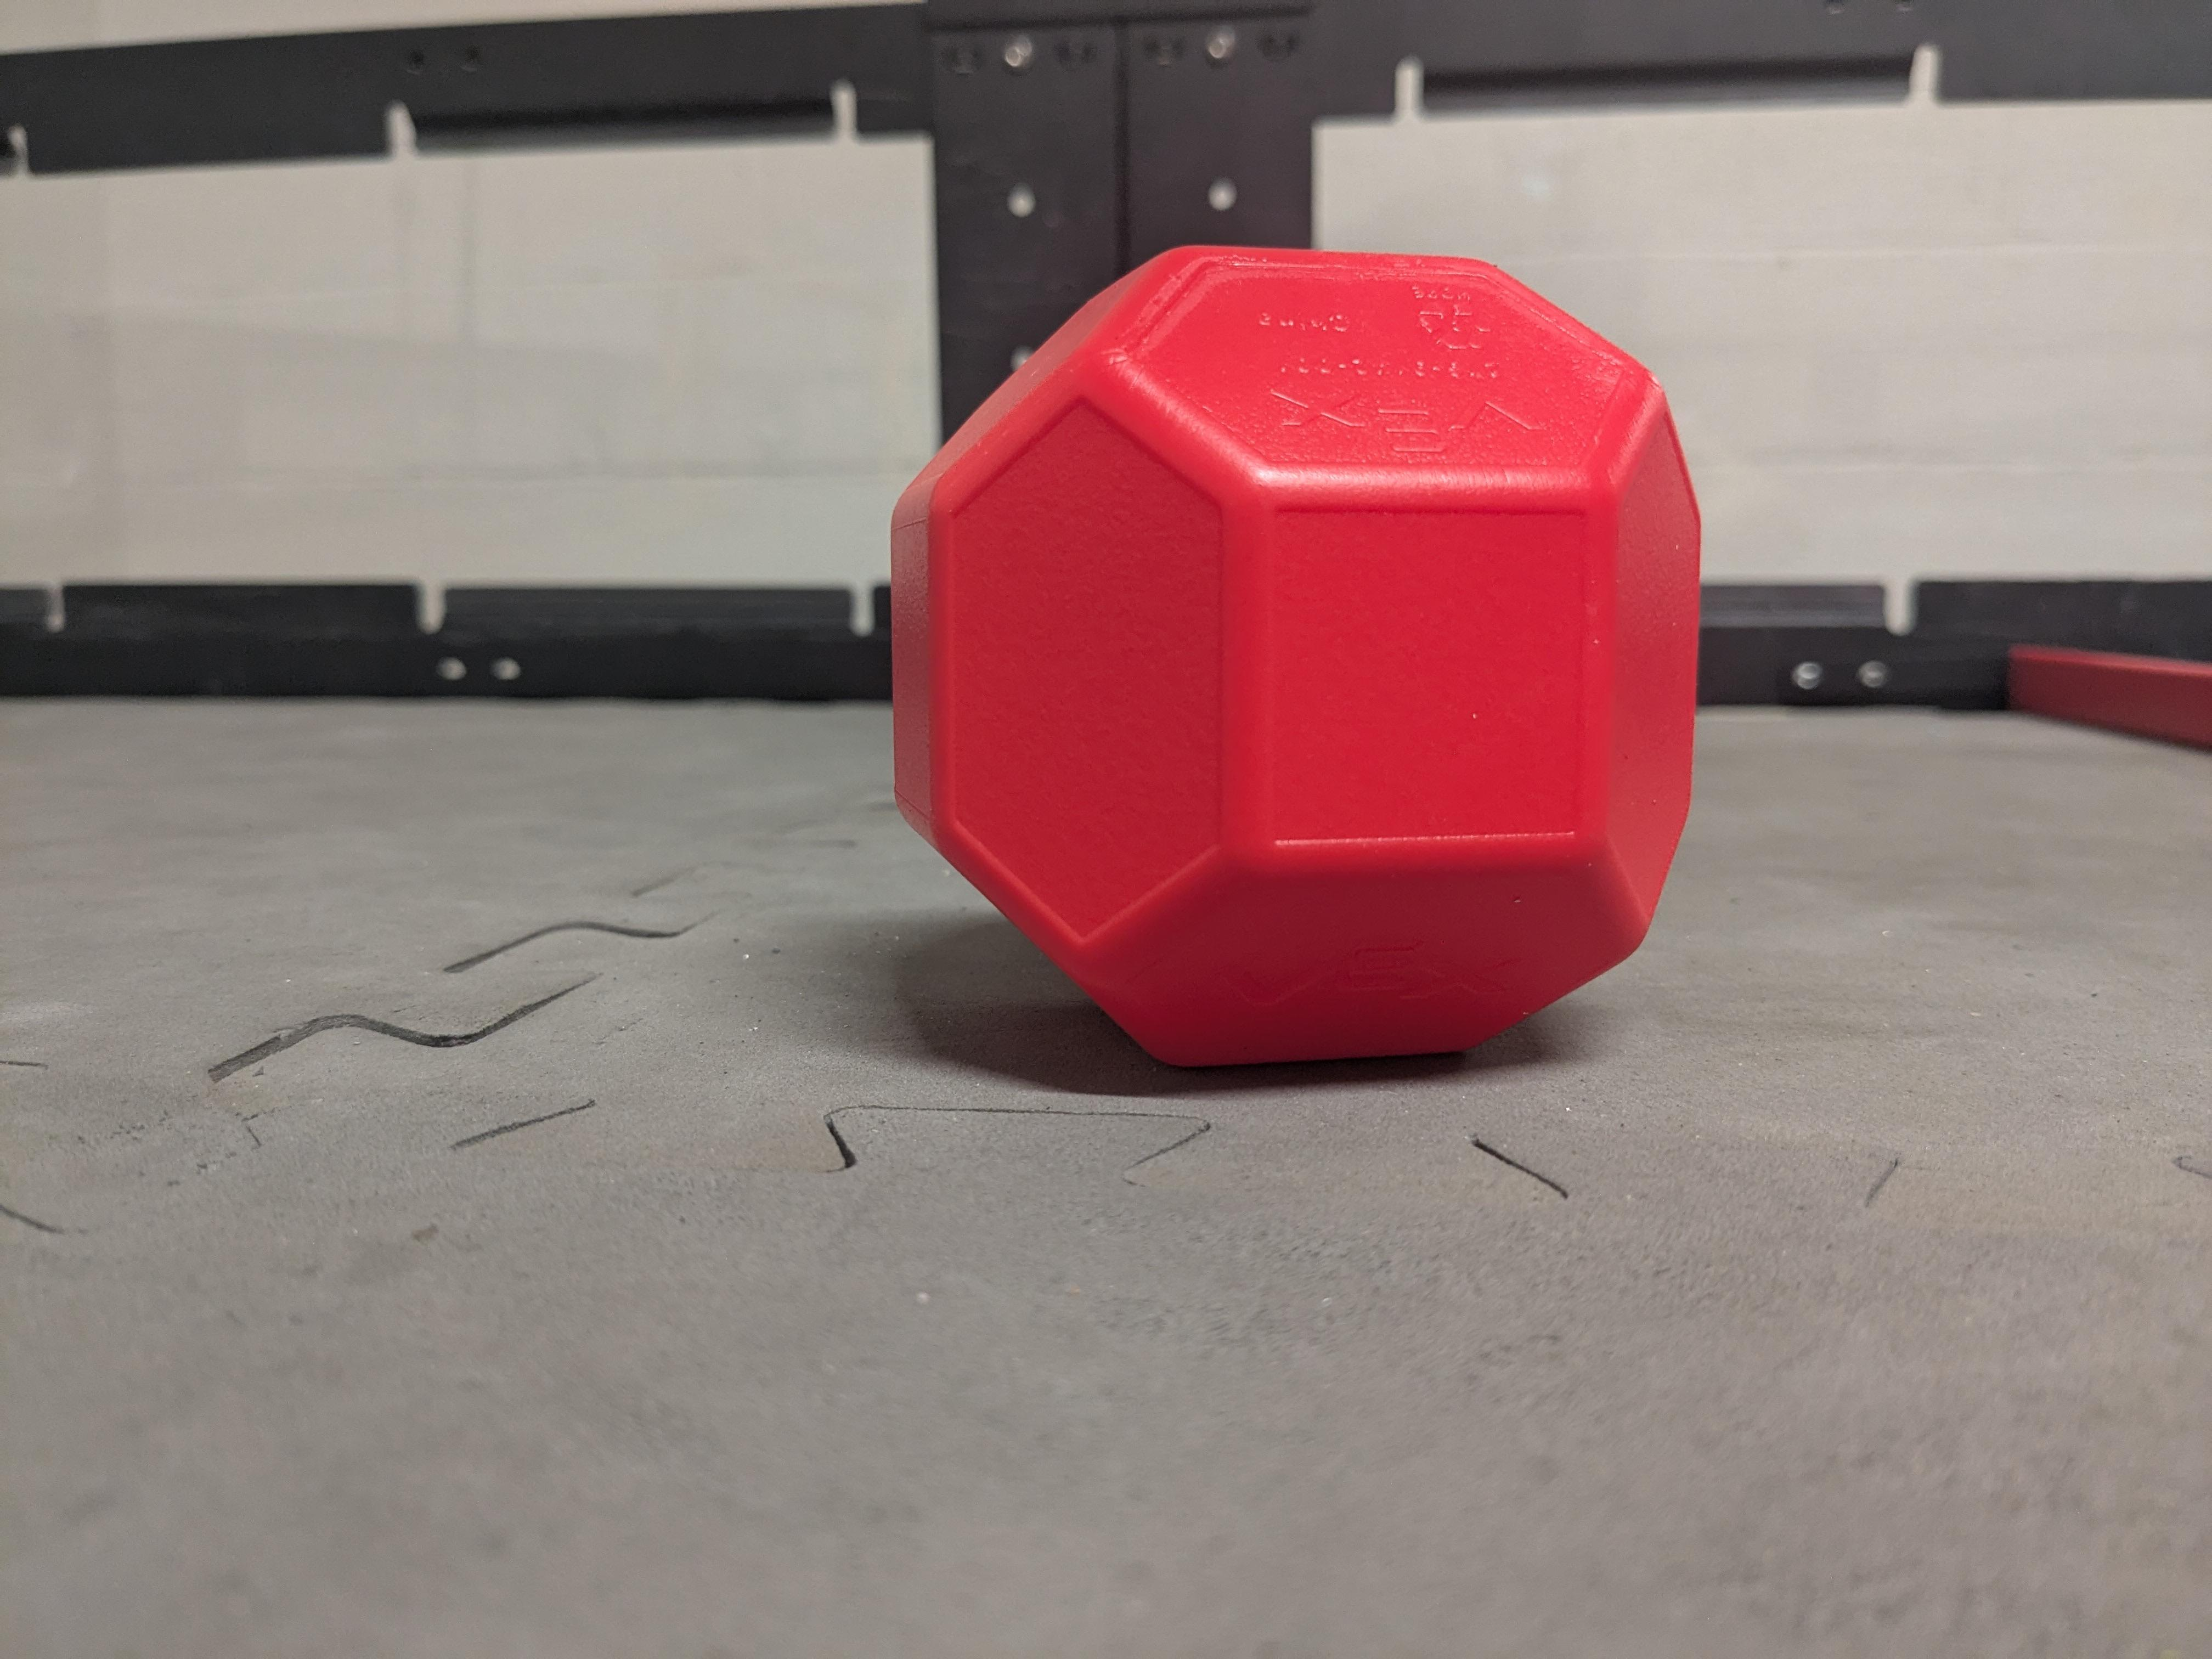Vex-Pieces-RED: (883, 254, 1707, 1073)
